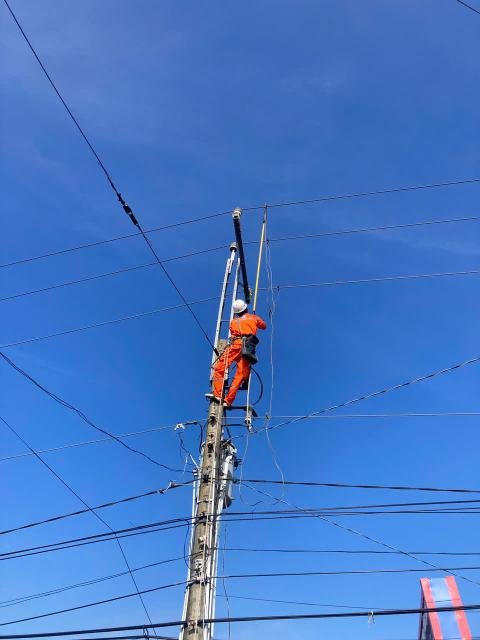harness: (226, 331, 259, 345)
helmet: (230, 299, 254, 314)
shoes: (203, 389, 221, 407), (217, 400, 233, 409)
